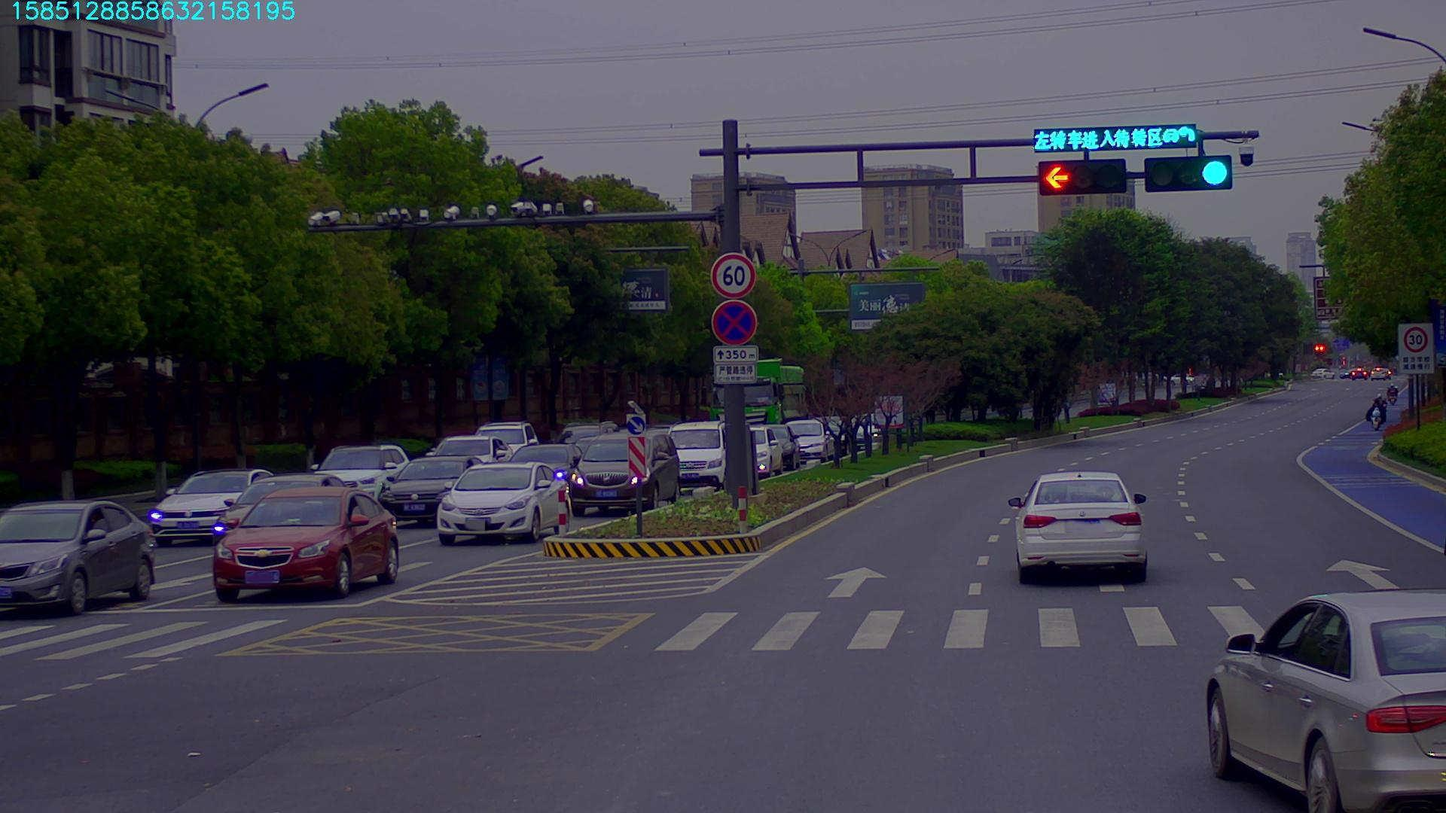green: (1149, 158, 1227, 193)
red: (1034, 164, 1125, 200)
wait_on: (1033, 129, 1200, 149)
